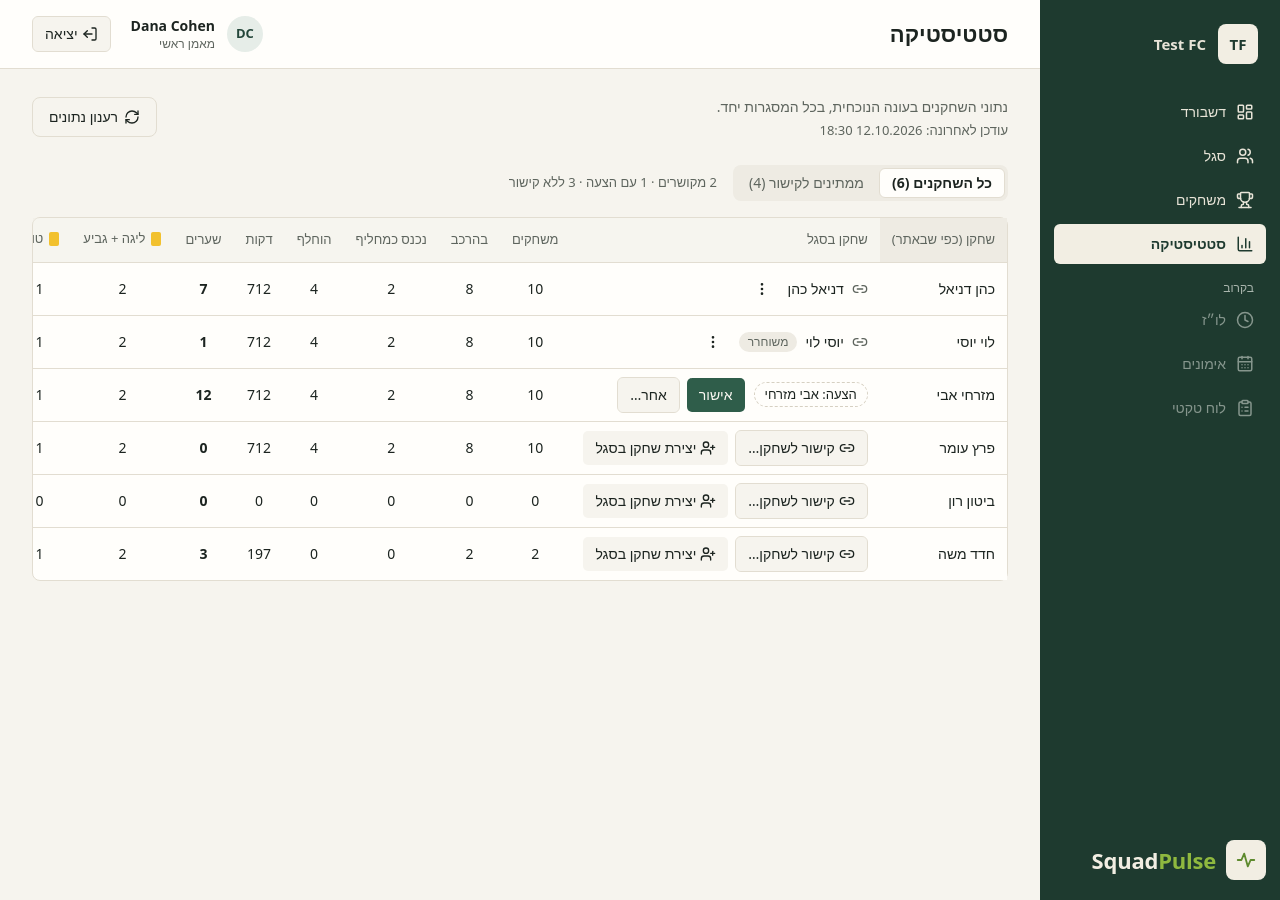
Test: confirming a suggestion › shows a 404 in the row, refetching only when the list is out of date
Expected: the heading "סטטיסטיקה" is shown, [890, 20, 1008, 48]
What coordinates should you click on to do the following:
click the button "אישור"
I would click on:
 (716, 394)
Its box is [686, 376, 746, 412].
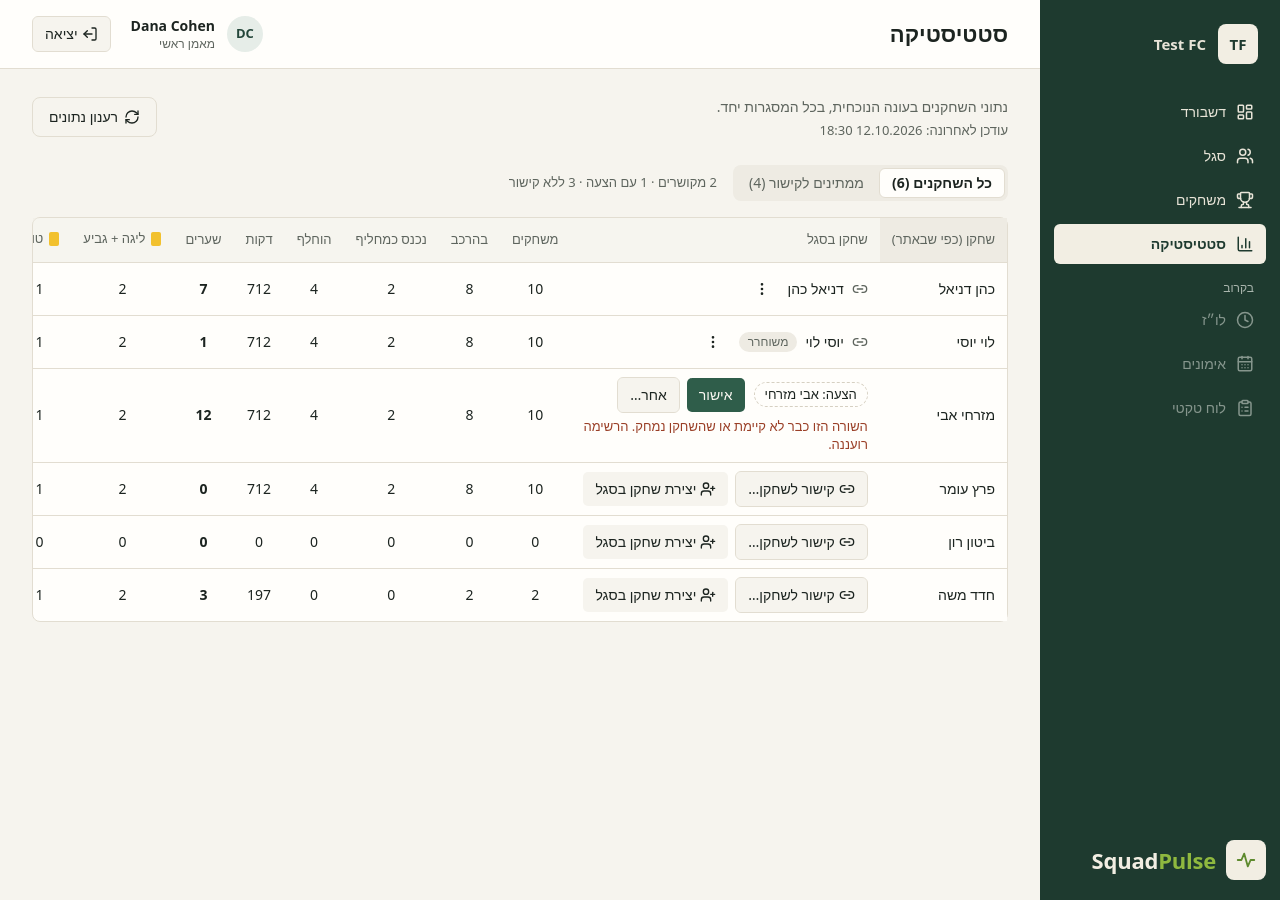
Expected: the message reads "השורה הזו כבר לא קיימת או שהשחקן נמחק. הרשימה רועננה.", [583, 416, 868, 453]
